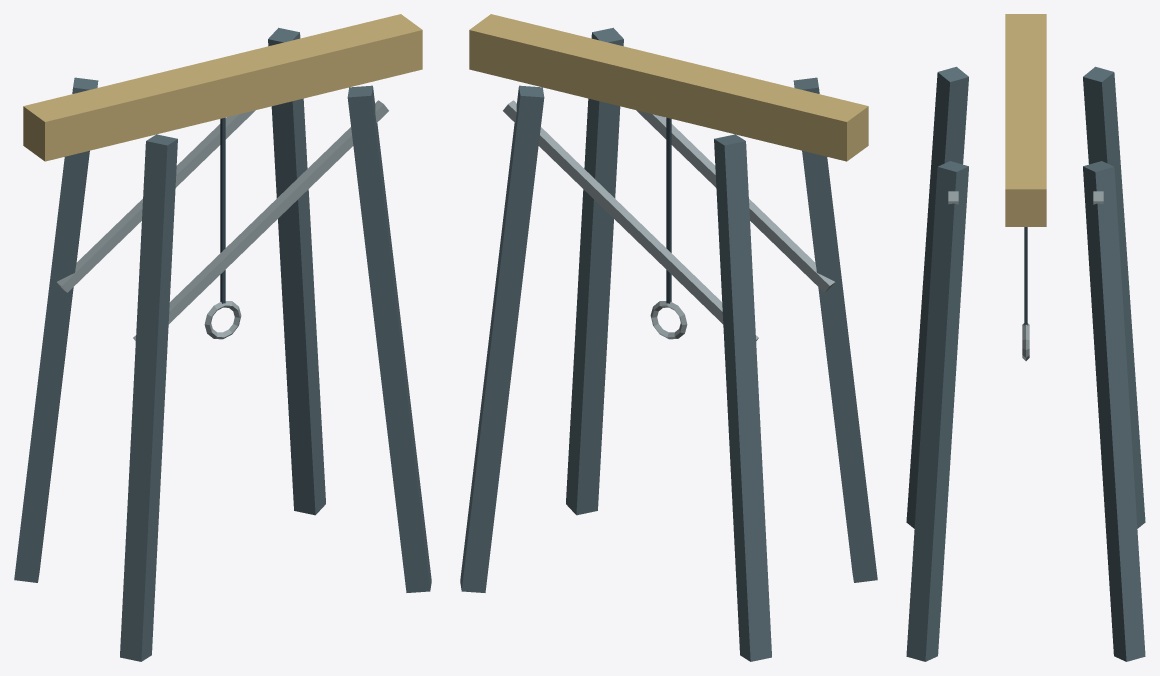
Rendered from crane-low.glb.
3 renders of one model, left to right at view 1: azimuth 30°, elevation 25°; view 2: azimuth 150°, elevation 25°; view 3: azimuth 270°, elevation 25°, orthographic. The views are drawn at different scales.
Visible parts, largest first — view 1: asset_crane__FP_Baked; view 2: asset_crane__FP_Baked; view 3: asset_crane__FP_Baked.
Boxes of the visible parts, x1=… form: asset_crane__FP_Baked: x1=14, y1=14, x2=431, y2=661; asset_crane__FP_Baked: x1=460, y1=14, x2=877, y2=661; asset_crane__FP_Baked: x1=906, y1=14, x2=1145, y2=661.
Size of the model in its own units: 4 by 5.21 by 2.3.
